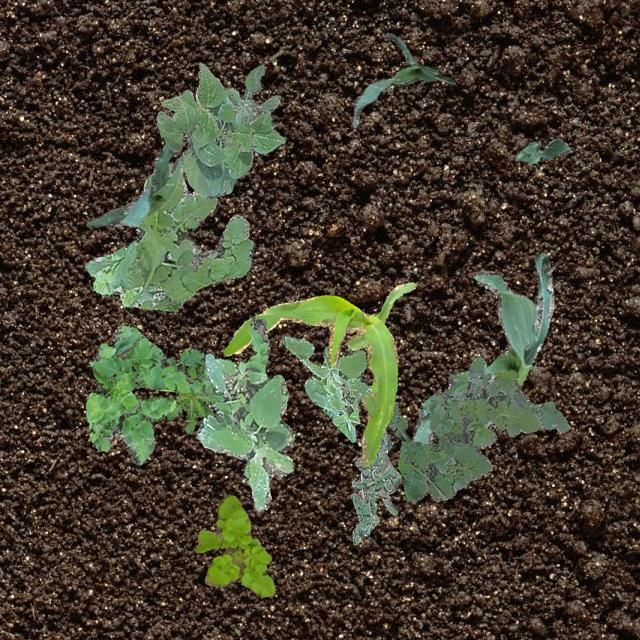crop: (222, 282, 414, 466), (410, 252, 552, 444), (156, 61, 284, 198), (352, 32, 454, 126), (86, 142, 180, 226), (514, 138, 570, 162)
weed: (84, 316, 268, 464), (384, 356, 568, 500), (84, 162, 254, 310), (195, 352, 294, 510), (282, 334, 372, 442), (193, 494, 274, 596), (350, 428, 400, 544), (166, 360, 220, 432), (216, 64, 278, 124)
